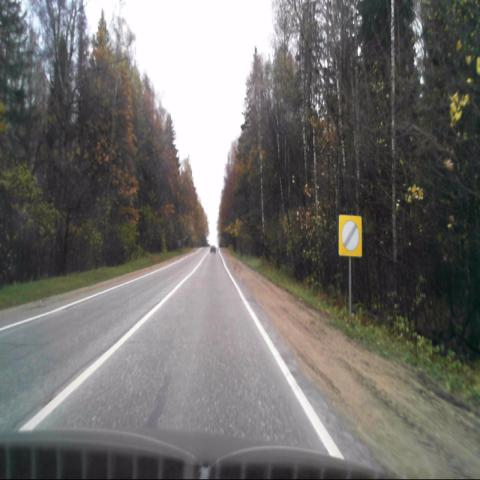3_31: (338, 215, 361, 257)
